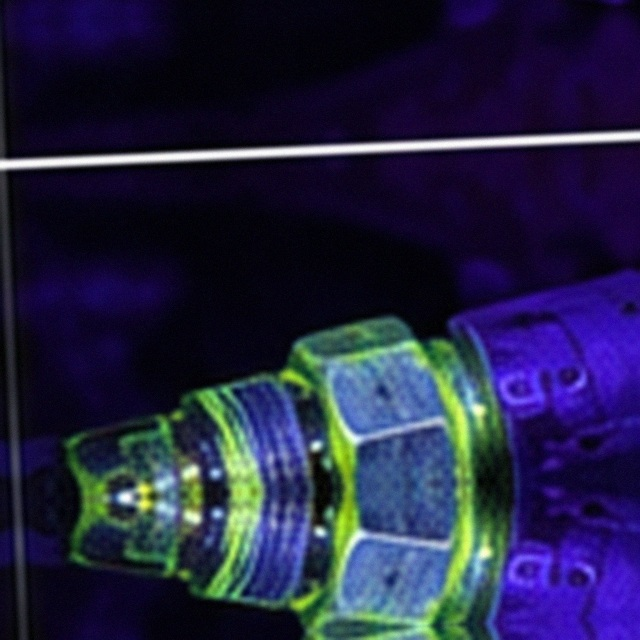hydraulic_oil_leak: (186, 317, 504, 600), (70, 454, 155, 535), (121, 410, 184, 465), (148, 526, 180, 567), (179, 476, 203, 513), (67, 435, 82, 448), (184, 569, 190, 574), (169, 492, 174, 498), (182, 528, 189, 532), (181, 458, 184, 462)
